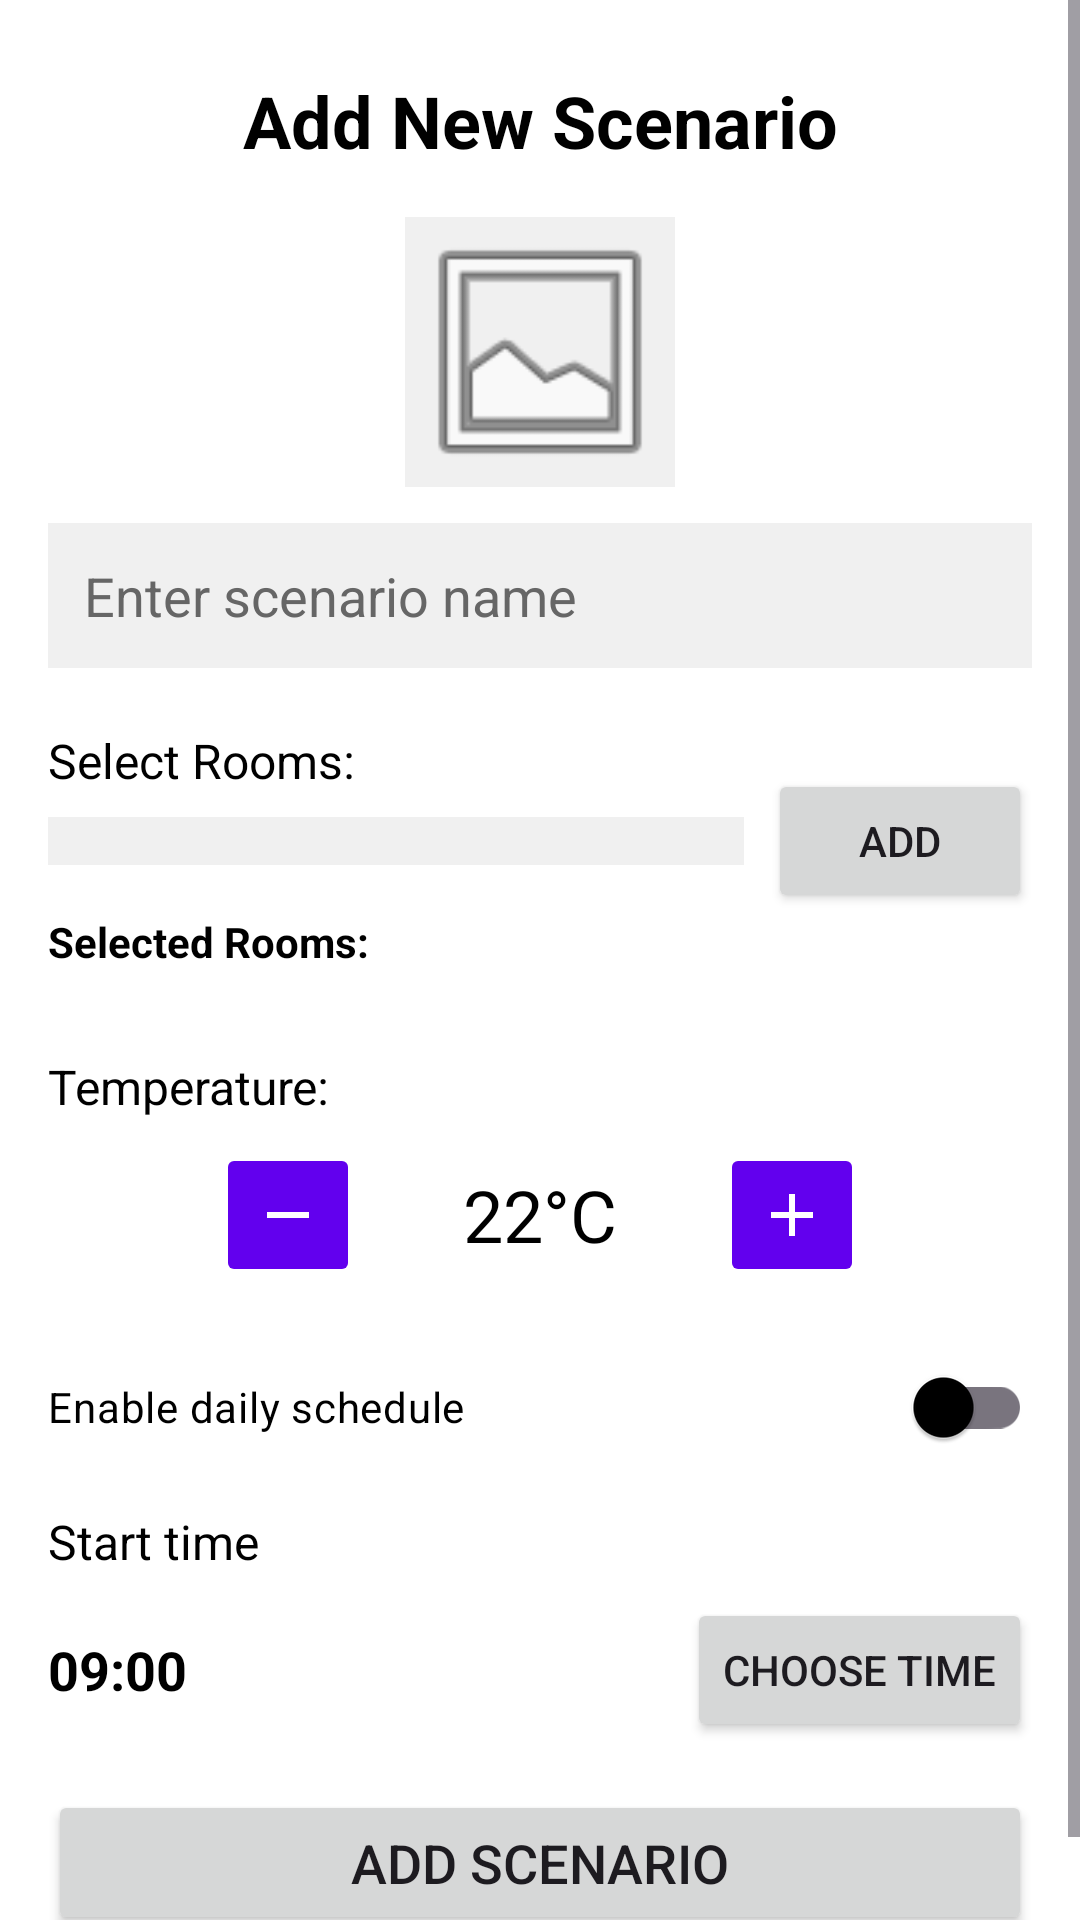

Locate icon controls on the screen. Image size 1080 x 1920, boxes as box(x1, y1, x2, y2).
Scenario image preview: box(405, 217, 675, 487)
